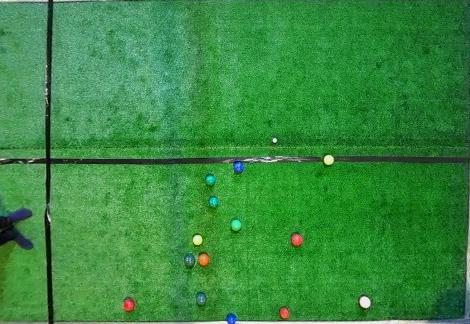blue: (233, 161, 244, 173), (225, 312, 237, 323)
green: (230, 218, 242, 231), (196, 292, 207, 305), (184, 254, 195, 267), (208, 196, 219, 208), (205, 174, 216, 186)
red: (123, 298, 135, 312), (291, 233, 303, 246), (198, 253, 210, 266), (359, 296, 371, 308), (279, 307, 290, 319)
vline: (1, 1, 55, 323), (461, 1, 469, 323)
white: (272, 138, 278, 144)
yellow: (192, 234, 203, 245), (323, 155, 334, 166)
